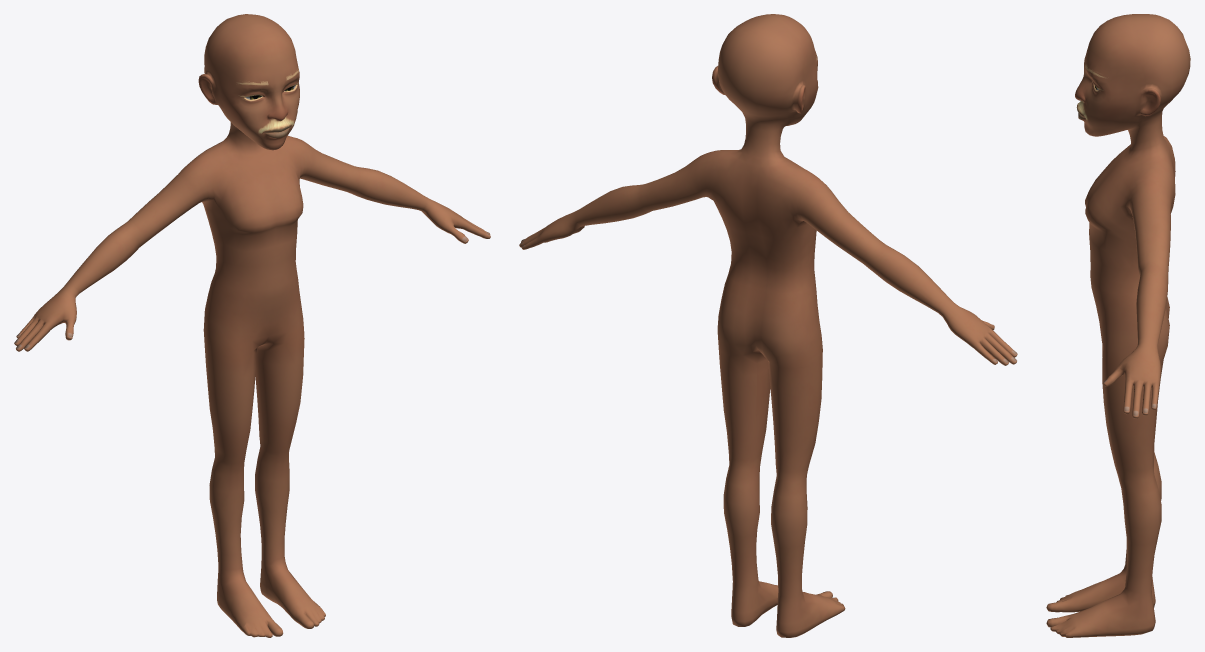
Rendered from frame_0030.glb.
The picture shows the model from 3 angles, left to right: view 1: azimuth 30°, elevation 25°; view 2: azimuth 150°, elevation 25°; view 3: azimuth 270°, elevation 25°; orthographic projection. The views are drawn at different scales.
Parts seen in each view (by area): view 1: frame_0030_head_geo; view 2: frame_0030_head_geo; view 3: frame_0030_head_geo.
Part boxes in pixels (box(x1,y1,x2,y2)): frame_0030_head_geo: box(14, 14, 490, 637); frame_0030_head_geo: box(519, 14, 1017, 637); frame_0030_head_geo: box(1046, 14, 1190, 637).
Bounding box in the file's own units: 1.28 × 1.5 × 0.3253.
3 materials, 3 textured.
